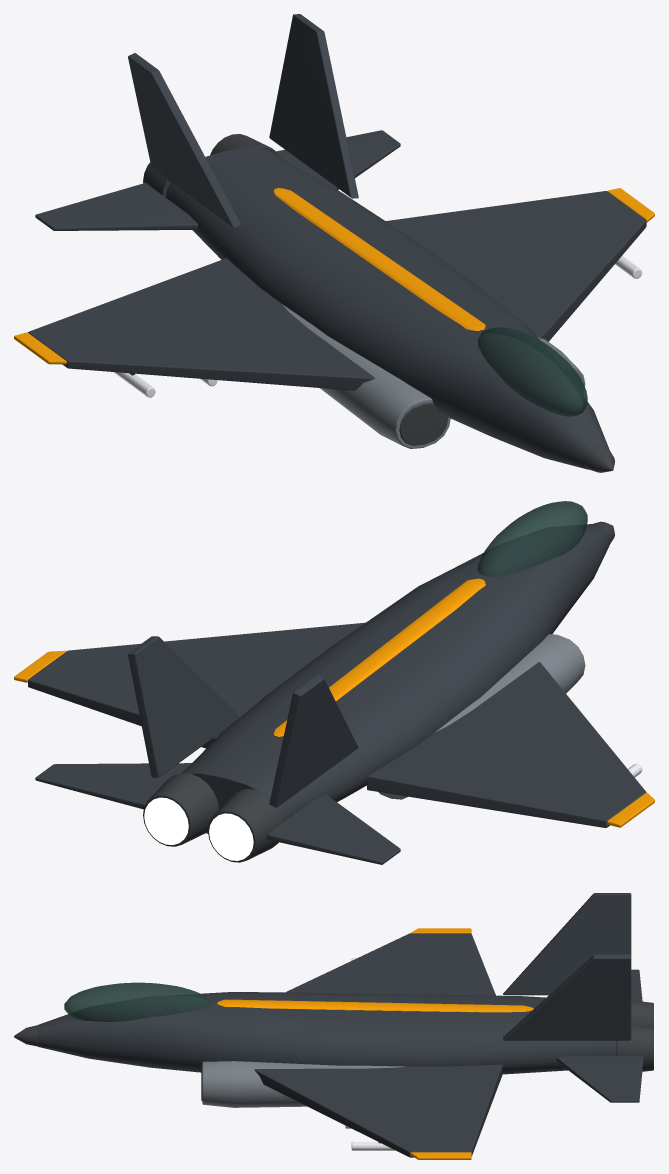
Rendered from Jet_RhinoHX.fbx.
3 views of the same model, one above another, from view 1: azimuth 30°, elevation 25°; view 2: azimuth 150°, elevation 25°; view 3: azimuth 270°, elevation 25° (orthographic). The views are drawn at different scales.
Visible parts, largest first — view 1: Body.005, Canopy.008, Accents.002, Intakes.002, Trim.004, Missiles; view 2: Body.005, Canopy.008, Trim.004, Accents.002, Glow.006, Intakes.002; view 3: Body.005, Canopy.008, Intakes.002, Accents.002, Trim.004.
Part boxes in pixels (<box>): Body.005: <box>28,14,646,469</box>; Canopy.008: <box>477,327,587,416</box>; Accents.002: <box>14,187,654,364</box>; Intakes.002: <box>282,304,585,448</box>; Trim.004: <box>129,134,614,472</box>; Missiles: <box>114,256,642,397</box>; Body.005: <box>28,524,646,864</box>; Canopy.008: <box>477,501,587,576</box>; Trim.004: <box>143,521,614,862</box>; Accents.002: <box>14,578,654,827</box>; Glow.006: <box>144,797,253,860</box>; Intakes.002: <box>378,634,585,799</box>; Body.005: <box>37,893,643,1157</box>; Canopy.008: <box>64,982,210,1021</box>; Intakes.002: <box>202,1061,405,1107</box>; Accents.002: <box>217,928,533,1159</box>; Trim.004: <box>14,1000,653,1143</box>.
Bounding box in the file's own units: 26.2 × 8.23 × 30.95.
